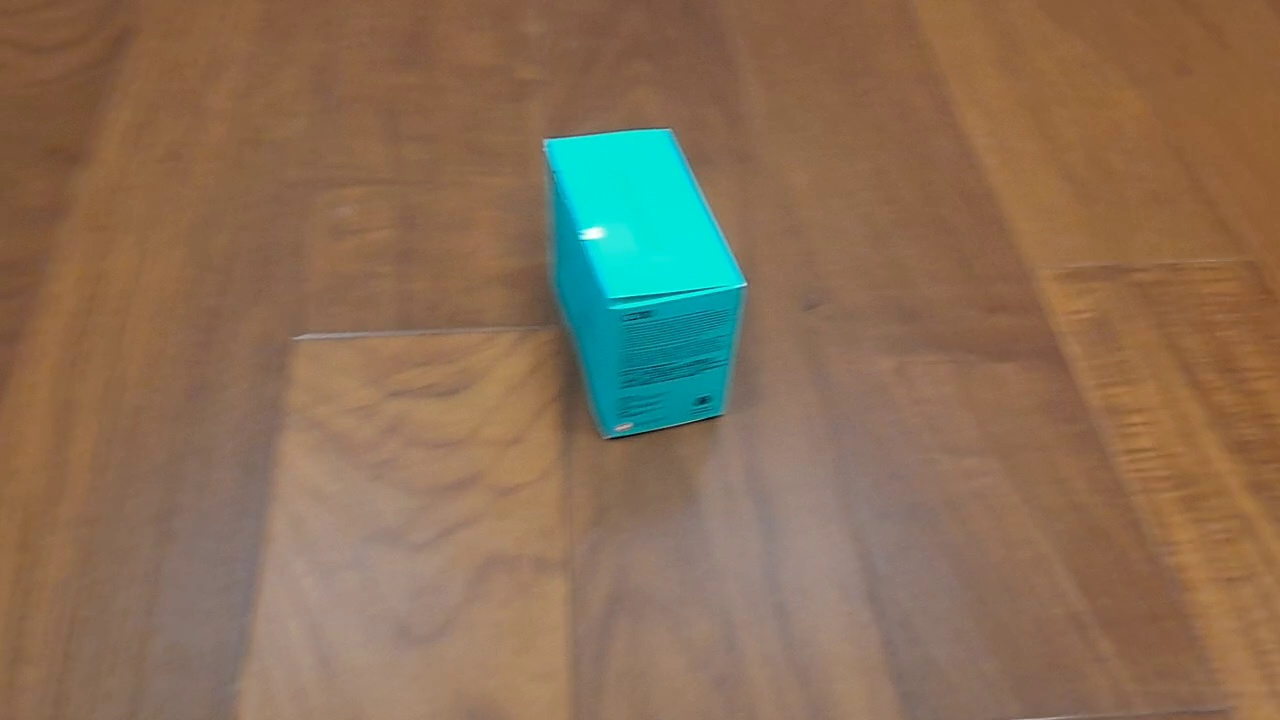webcam: (540, 127, 750, 443)
